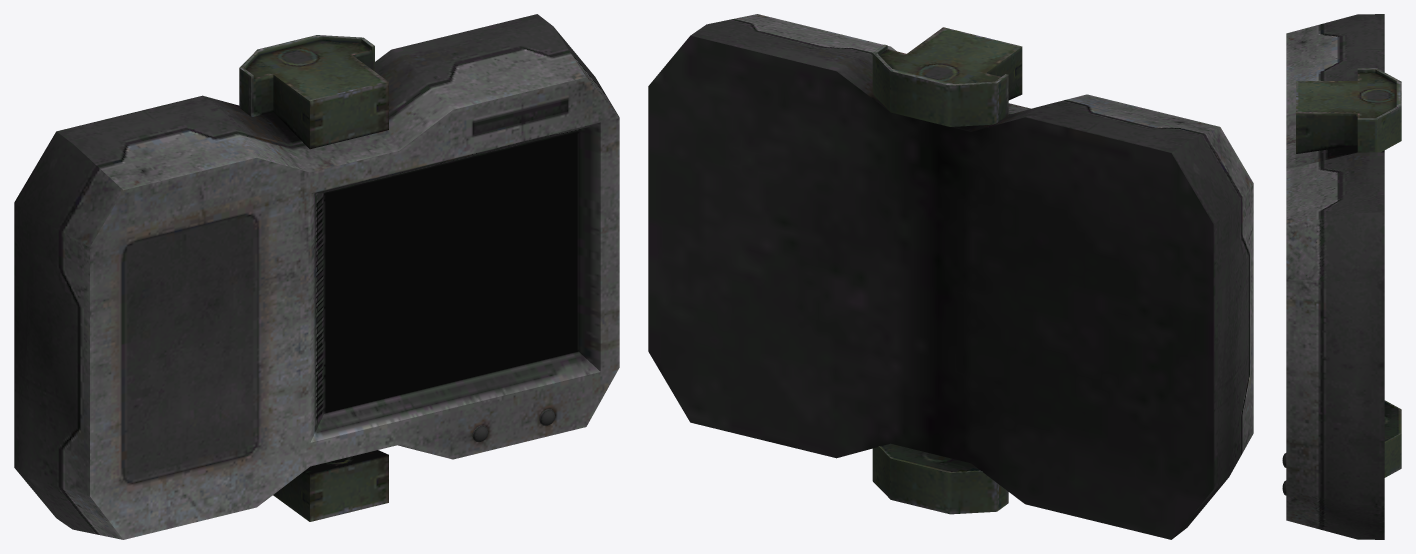
File: power_panel.dae
3 views of the same model, side by side, from view 1: azimuth 30°, elevation 25°; view 2: azimuth 150°, elevation 25°; view 3: azimuth 270°, elevation 25° (orthographic). The views are drawn at different scales.
Visible parts, largest first — view 1: laboratory; view 2: laboratory; view 3: laboratory.
Boxes of the visible parts, left/top/right/bottom form: laboratory: left=14, top=14, right=619, bottom=539; laboratory: left=648, top=14, right=1253, bottom=539; laboratory: left=1282, top=14, right=1401, bottom=539.
Bounding box in the file's own units: 0.4407 × 0.3192 × 0.095.
